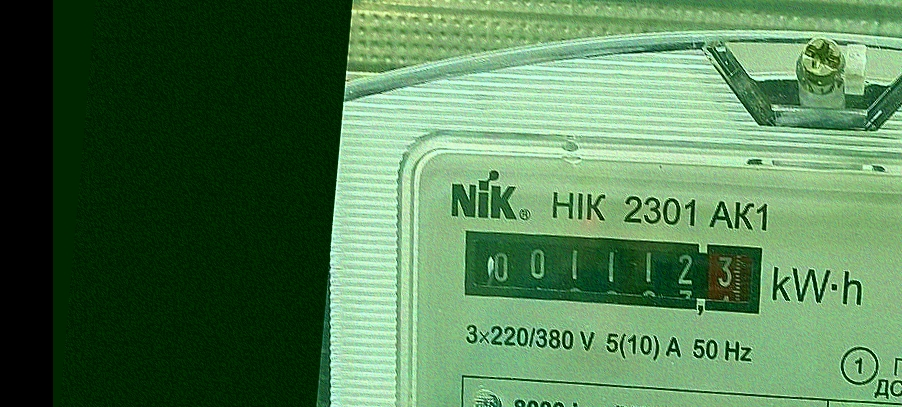0: (525, 244, 550, 283), (489, 247, 514, 284)
1: (564, 244, 586, 283), (640, 248, 658, 286), (602, 246, 619, 285)
2: (673, 251, 698, 289)
3: (714, 253, 735, 290)
screen: (453, 217, 772, 326)
